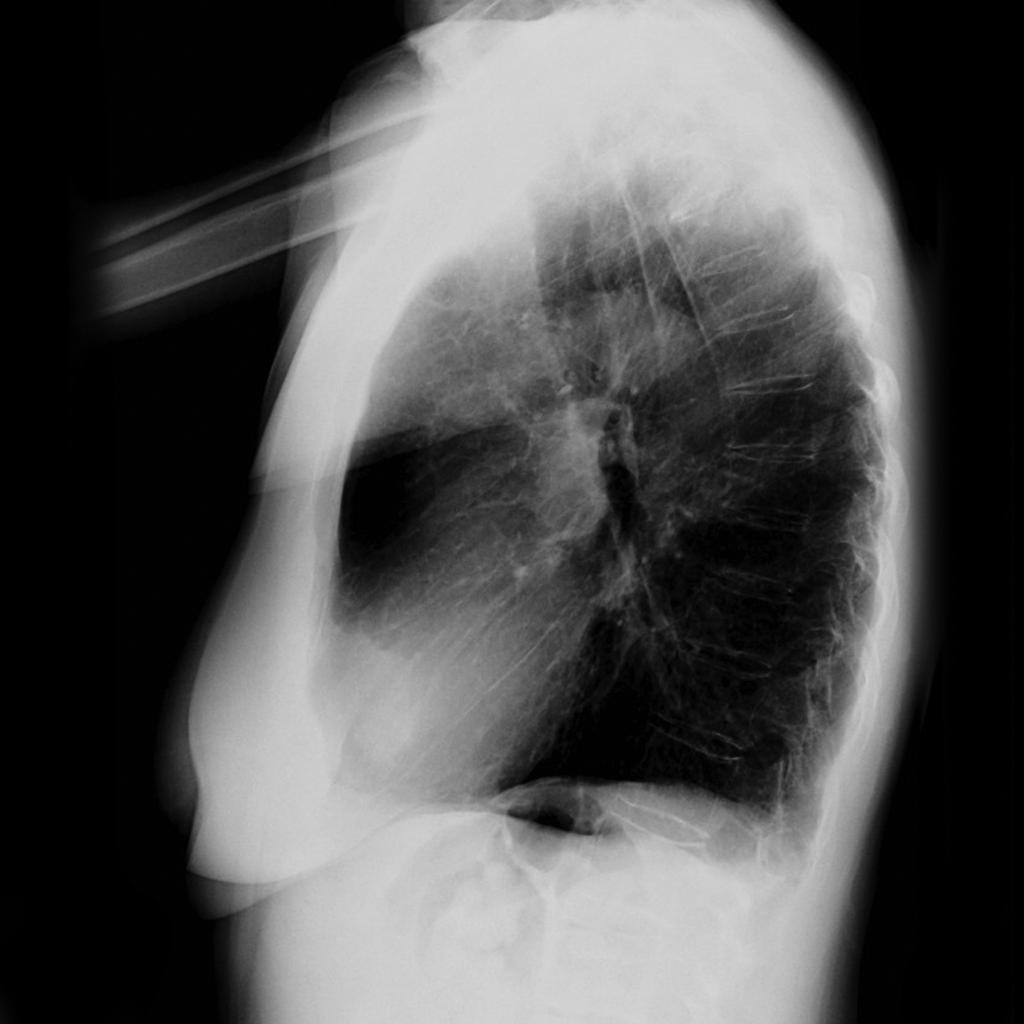cancer: (408, 249, 854, 791)
